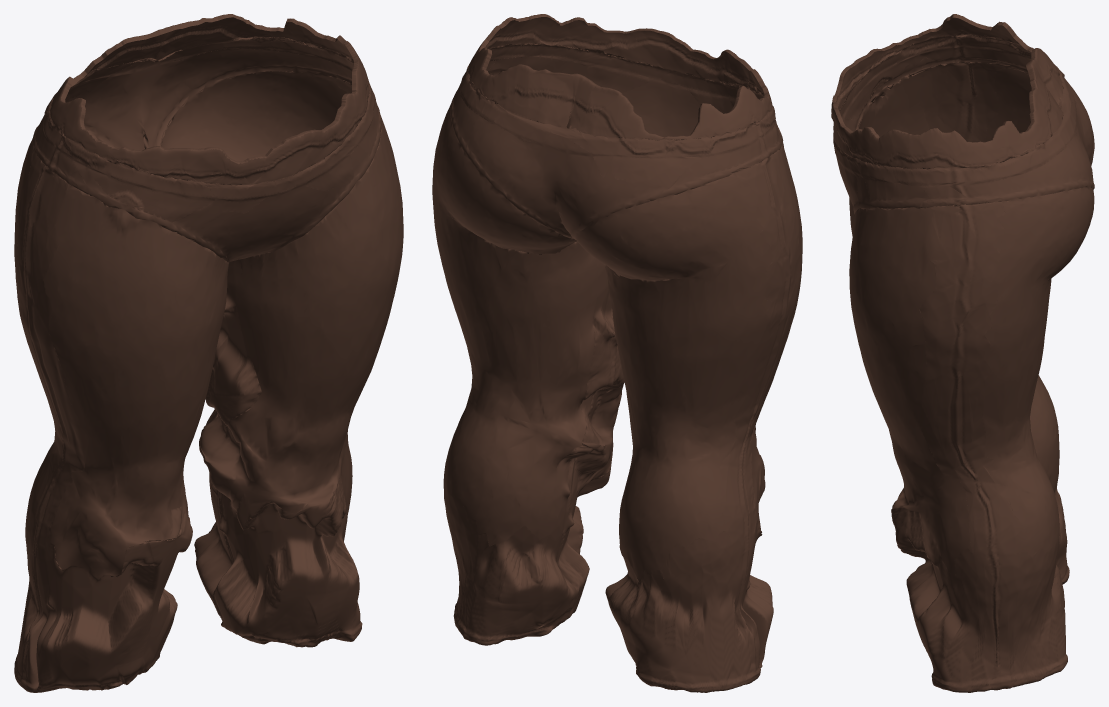
Rendered from bottom_f_flare.glb.
The picture shows the model from 3 angles, left to right: view 1: azimuth 30°, elevation 25°; view 2: azimuth 150°, elevation 25°; view 3: azimuth 270°, elevation 25°; orthographic projection. The views are drawn at different scales.
Parts seen in each view (by area): view 1: bottom_f_flare; view 2: bottom_f_flare; view 3: bottom_f_flare.
Boxes of the visible parts, bbox=[...] form: bottom_f_flare: bbox=[14, 14, 403, 692]; bottom_f_flare: bbox=[432, 14, 802, 692]; bottom_f_flare: bbox=[831, 14, 1094, 692].
Bounding box in the file's own units: 0.5123 × 0.8236 × 0.3476.
1 material, 1 textured.
